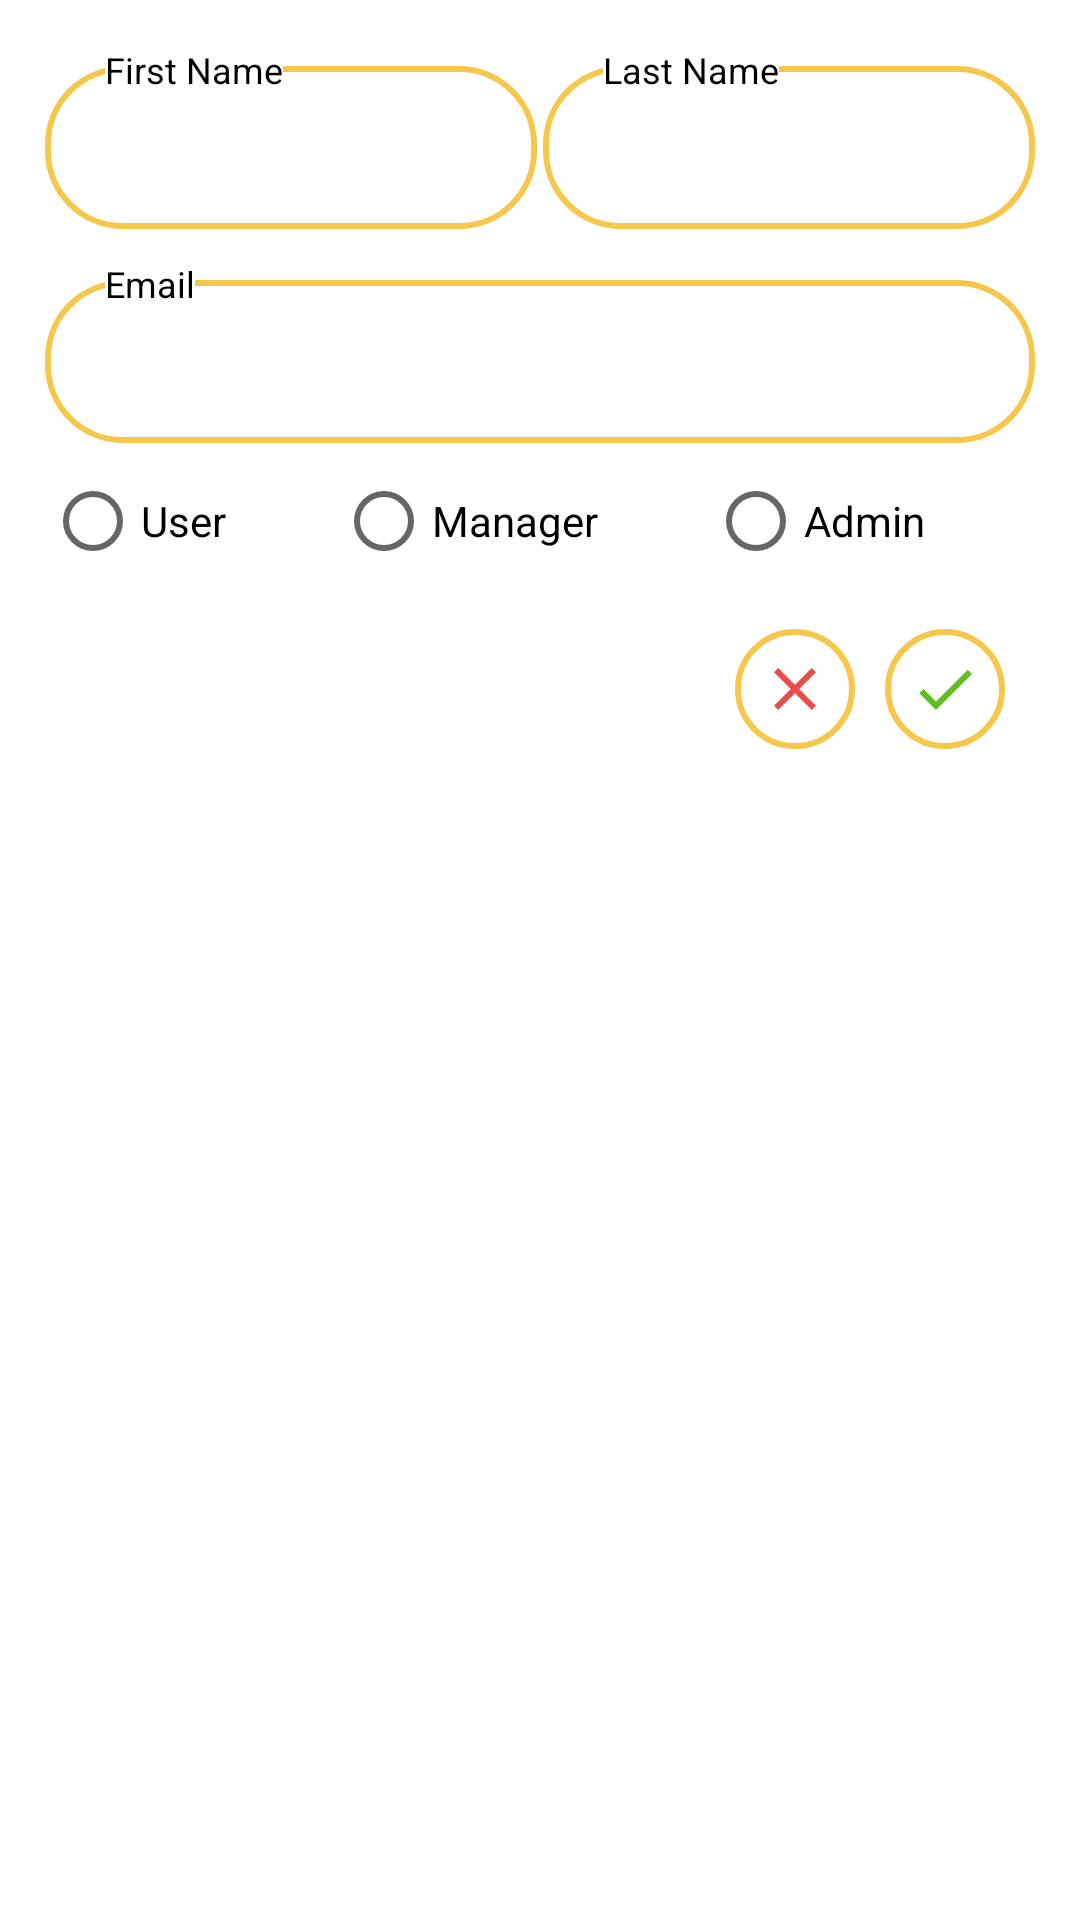

Point at icon controls on the screen. Image size 1080 × 1920, points as [x,y].
Cancel: [795,689]
Confirm: [945,689]
